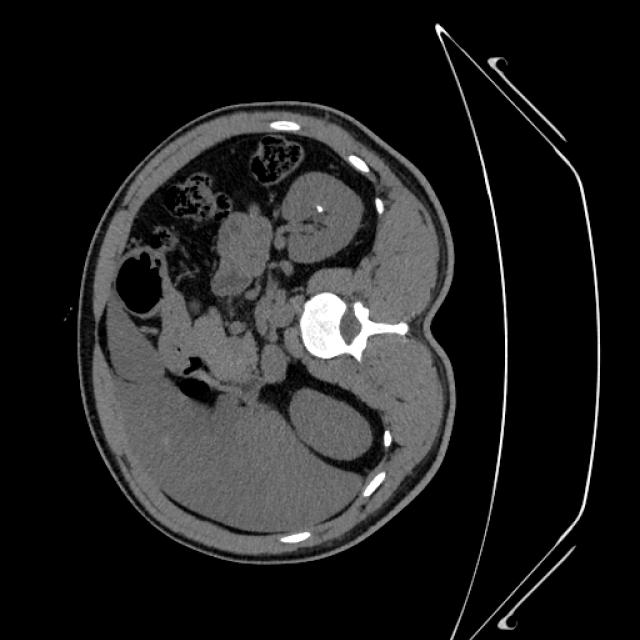kidneystone: (317, 204, 324, 211)
